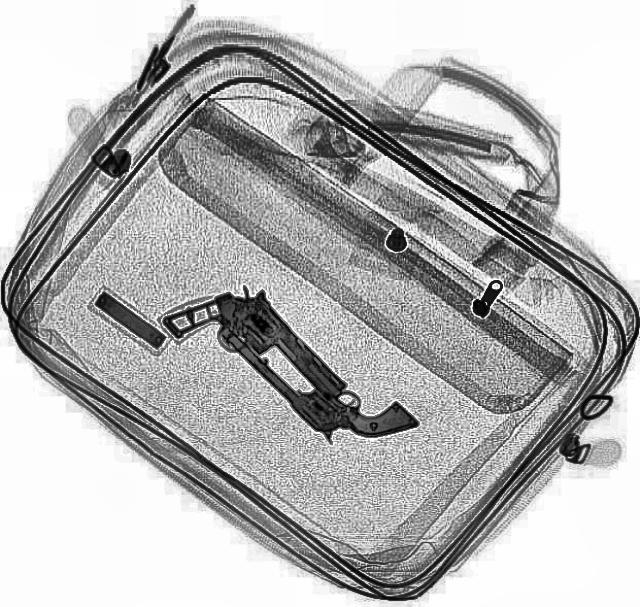Gun: (214, 282, 420, 472), (158, 267, 352, 443)
